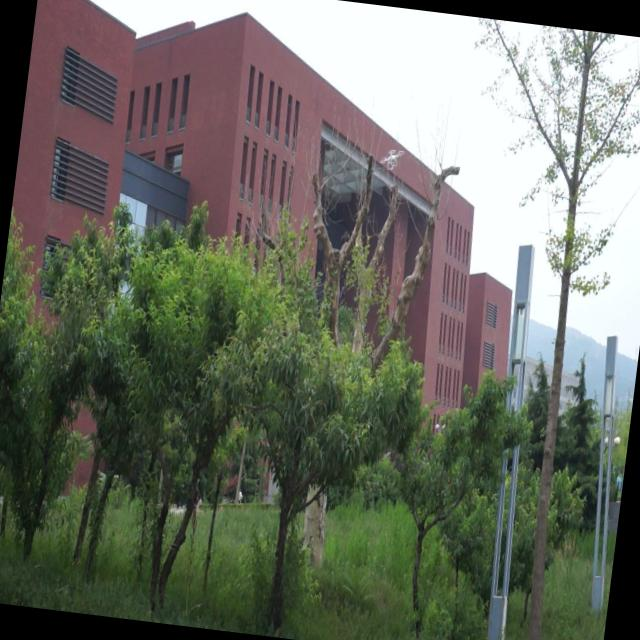drone: (374, 140, 406, 178)
